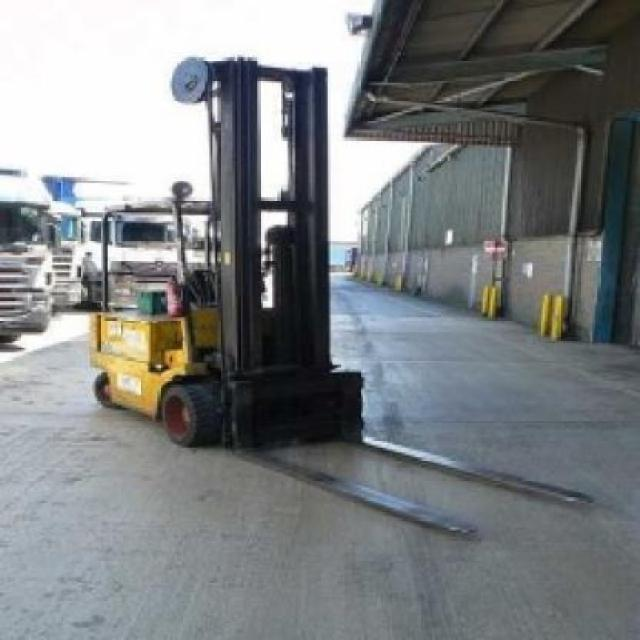forklift: (90, 58, 596, 542)
